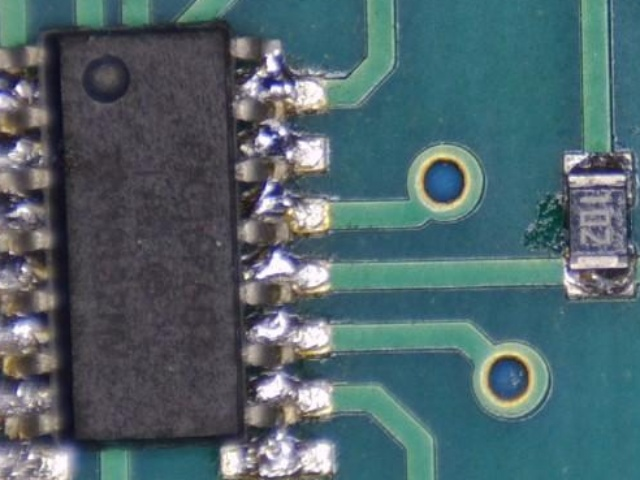pcb_defect: (0, 21, 334, 480), (219, 36, 334, 480), (0, 45, 70, 480)
